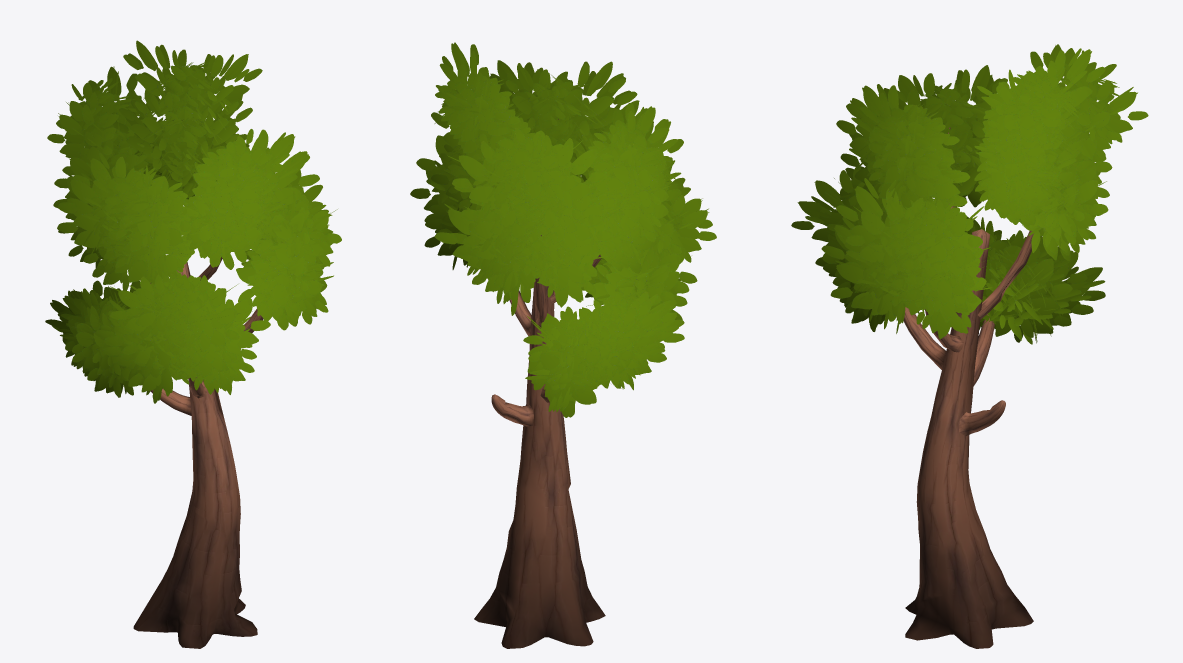
The model's file is CommonTree_5.glb.
The picture shows the model from 3 angles, left to right: view 1: azimuth 30°, elevation 25°; view 2: azimuth 150°, elevation 25°; view 3: azimuth 270°, elevation 25°; orthographic projection. The views are drawn at different scales.
Parts seen in each view (by area): view 1: CommonTree_5; view 2: CommonTree_5; view 3: CommonTree_5.
Boxes of the visible parts, left/top/right/bottom form: CommonTree_5: left=45, top=40, right=341, bottom=648; CommonTree_5: left=410, top=42, right=716, bottom=648; CommonTree_5: left=791, top=44, right=1148, bottom=648.
Size of the model in its own units: 3.67 by 7.01 by 4.22.
2 materials, 2 textured.
